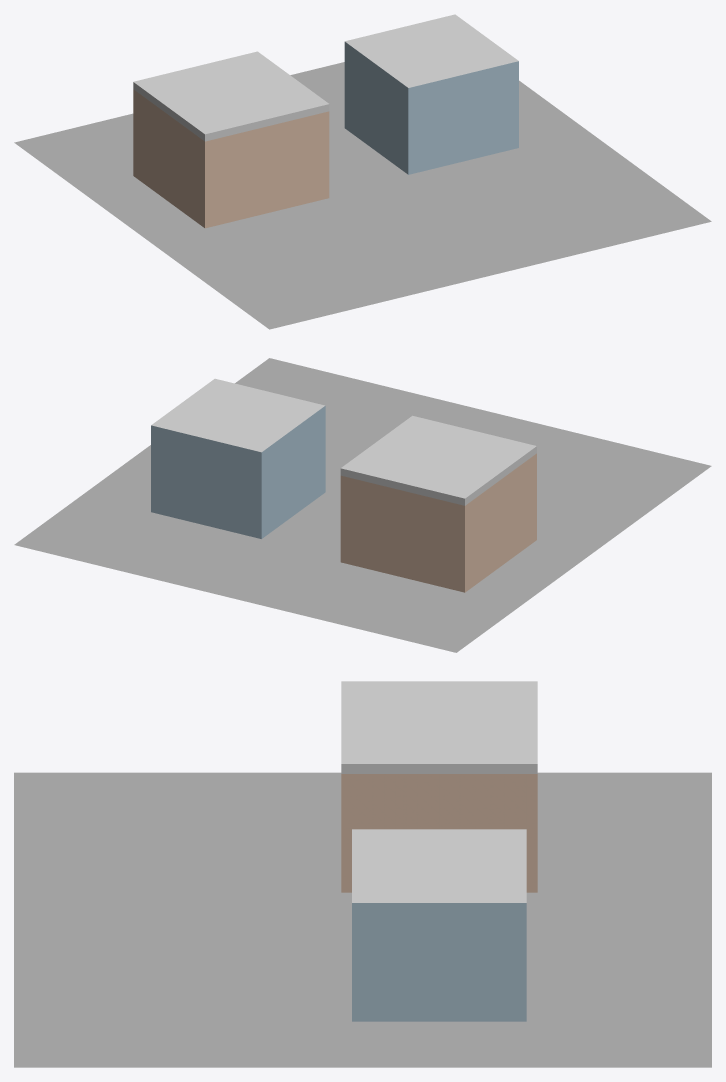
The model's file is mdl_leak_house.gltf.
3 renders of one model, top to bottom at view 1: azimuth 30°, elevation 25°; view 2: azimuth 150°, elevation 25°; view 3: azimuth 270°, elevation 25°, orthographic. The views are drawn at different scales.
Parts seen in each view (by area): view 1: floor, plaster_warm, plaster_cool, white, white_two_sided; view 2: floor, plaster_warm, plaster_cool, white, white_two_sided; view 3: floor, plaster_cool, white, white_two_sided, plaster_warm.
Part boxes in pixels (bbox=[...]): floor: bbox=[14, 62, 711, 329]; plaster_warm: bbox=[133, 89, 329, 228]; plaster_cool: bbox=[344, 42, 518, 174]; white: bbox=[133, 51, 329, 141]; white_two_sided: bbox=[345, 14, 518, 87]; floor: bbox=[14, 358, 711, 652]; plaster_warm: bbox=[340, 453, 536, 592]; plaster_cool: bbox=[151, 406, 325, 538]; white: bbox=[340, 415, 536, 505]; white_two_sided: bbox=[151, 378, 324, 452]; floor: bbox=[14, 772, 711, 1067]; plaster_cool: bbox=[352, 903, 526, 1021]; white: bbox=[341, 681, 537, 773]; white_two_sided: bbox=[352, 829, 526, 902]; plaster_warm: bbox=[341, 774, 537, 892].
Size of the model in its own units: 16 by 3.25 by 16.
